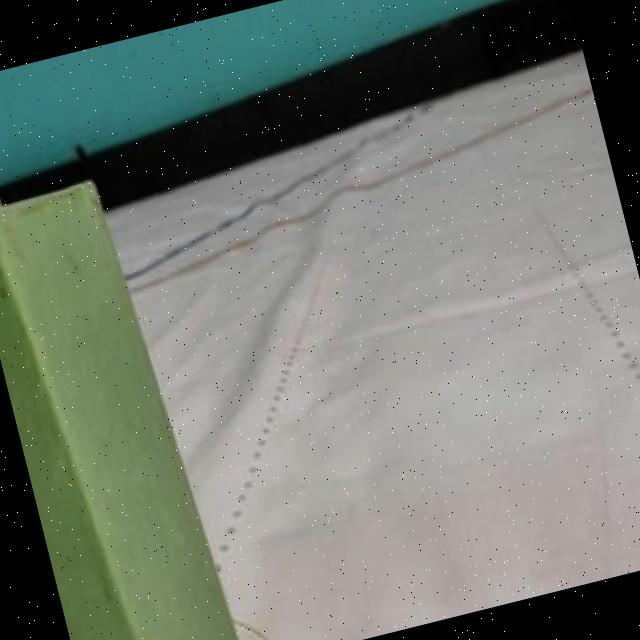greenbox: (0, 164, 255, 640)
